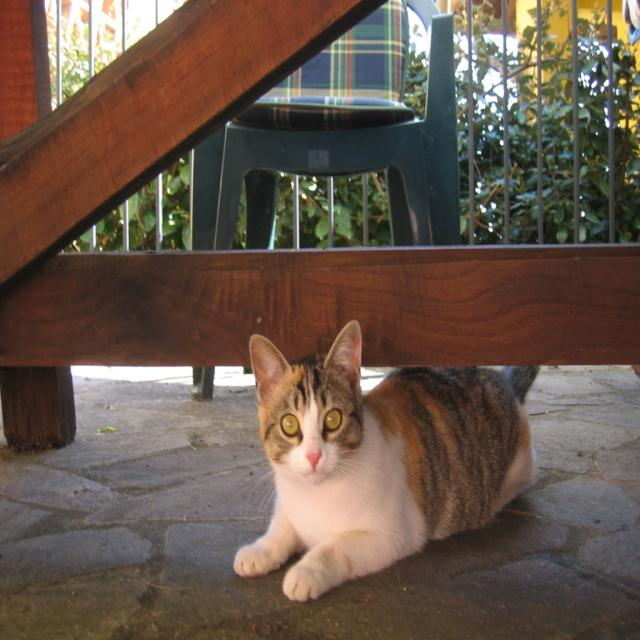Cat: (228, 305, 548, 606)
